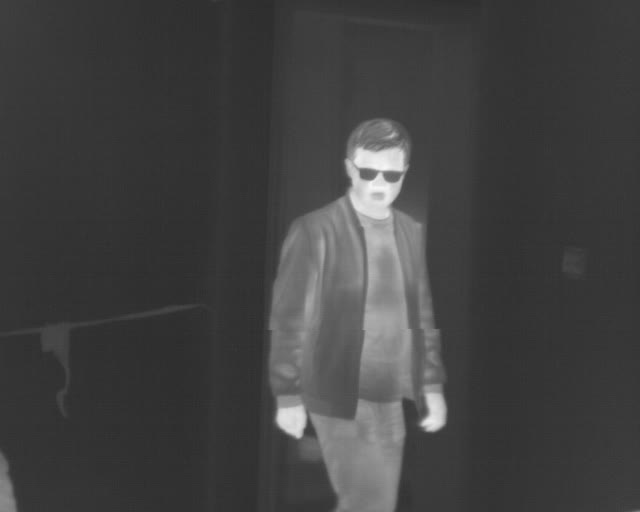face: (344, 116, 412, 210)
